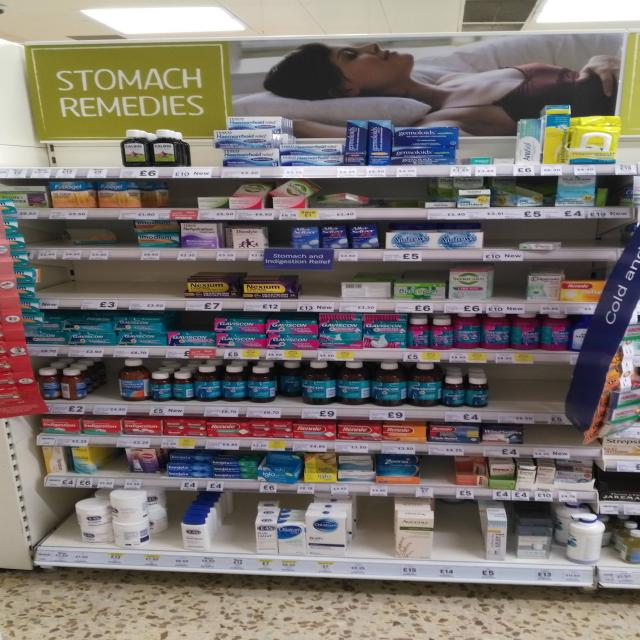100- O.O.S: (436, 504, 477, 579), (488, 366, 540, 422), (357, 499, 392, 574), (125, 268, 171, 310), (77, 267, 122, 309), (44, 491, 71, 561), (228, 496, 254, 568), (563, 221, 602, 261), (496, 263, 526, 313), (302, 270, 337, 312), (40, 267, 74, 309), (528, 426, 572, 458), (482, 220, 515, 260), (423, 457, 452, 498), (544, 365, 564, 424), (86, 139, 116, 178), (170, 182, 198, 220), (167, 491, 181, 567), (188, 138, 213, 178), (57, 138, 80, 179), (32, 139, 53, 178), (106, 360, 120, 414), (10, 139, 29, 178), (38, 223, 58, 260), (621, 136, 638, 174), (106, 450, 122, 489), (119, 222, 133, 260)
